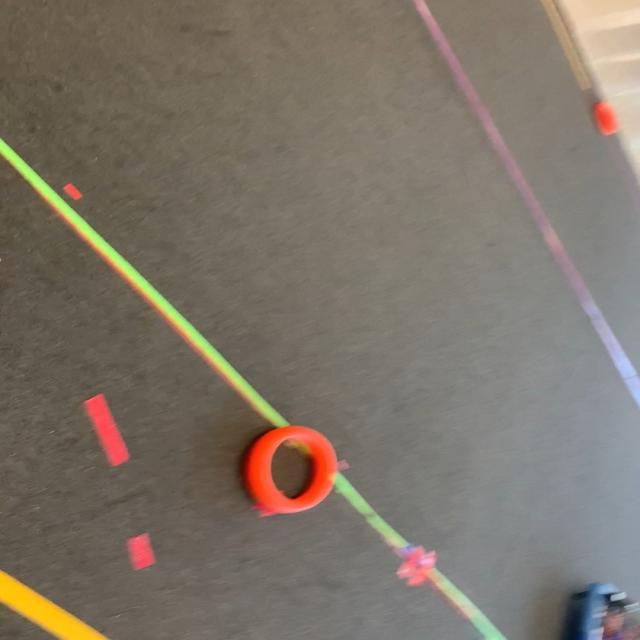notes: (247, 427, 336, 513)
